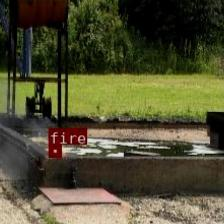fire: (48, 143, 60, 157)
